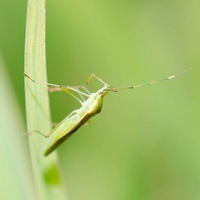insect: (24, 68, 191, 155)
